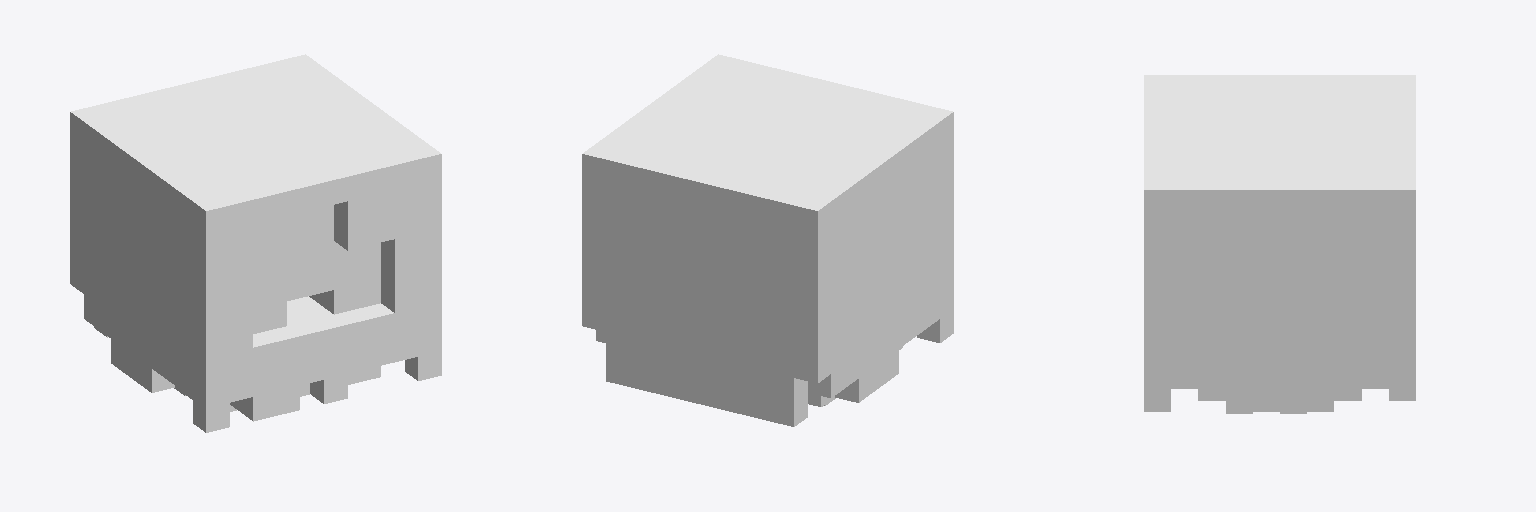
File: River.obj
3 renders of one model, left to right at view 1: azimuth 30°, elevation 25°; view 2: azimuth 150°, elevation 25°; view 3: azimuth 270°, elevation 25°, orthographic.
Parts seen in each view (by area): view 1: object 1; view 2: object 1; view 3: object 1.
Part boxes in pixels (left/top/right/bottom): object 1: left=70, top=54, right=441, bottom=432; object 1: left=582, top=54, right=953, bottom=426; object 1: left=1144, top=75, right=1415, bottom=413.
Size of the model in its own units: 1 by 1 by 1.